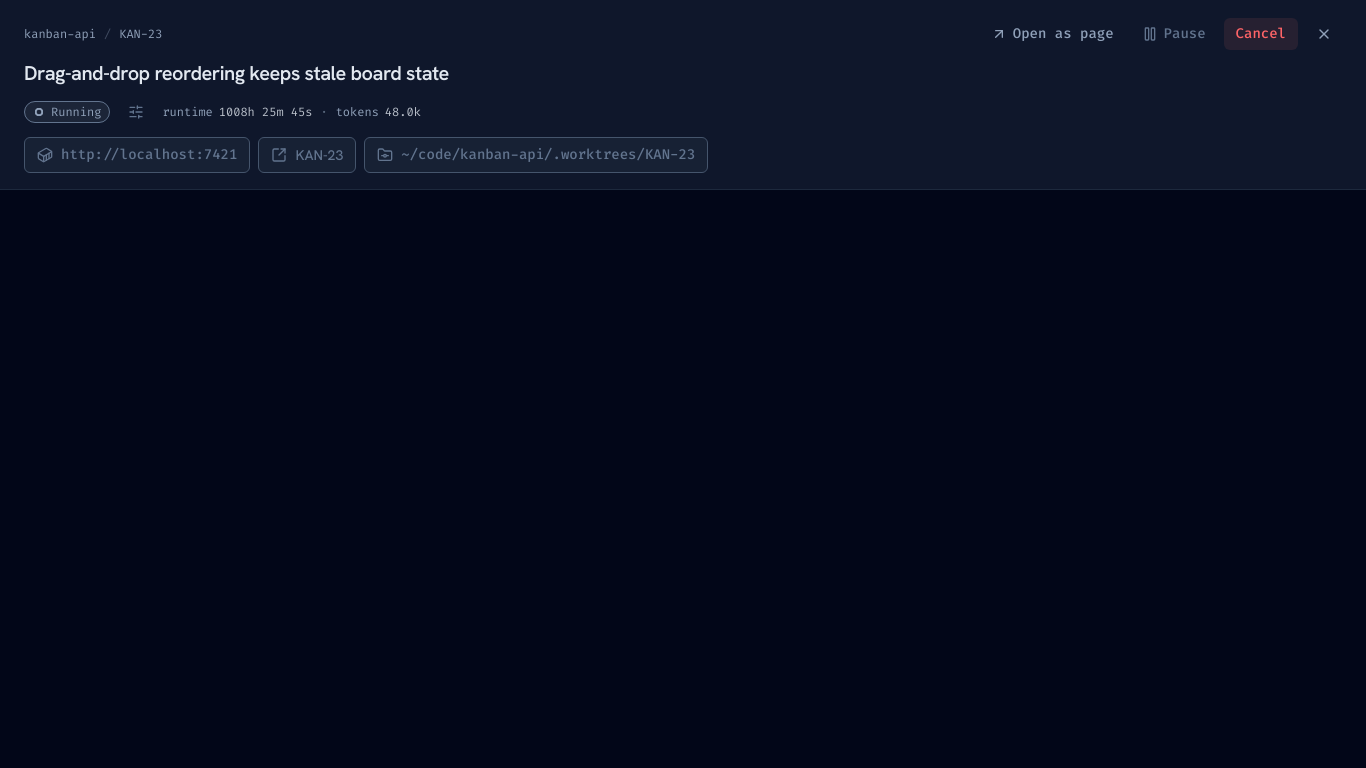
Test: DrawerHeader — Cancel control (CREW-246) › Cancel opens the confirm AlertModal without firing the soft cancel yet
Click the button "Cancel". click: (1261, 34)
box: x1=1224 y1=18 x2=1298 y2=50
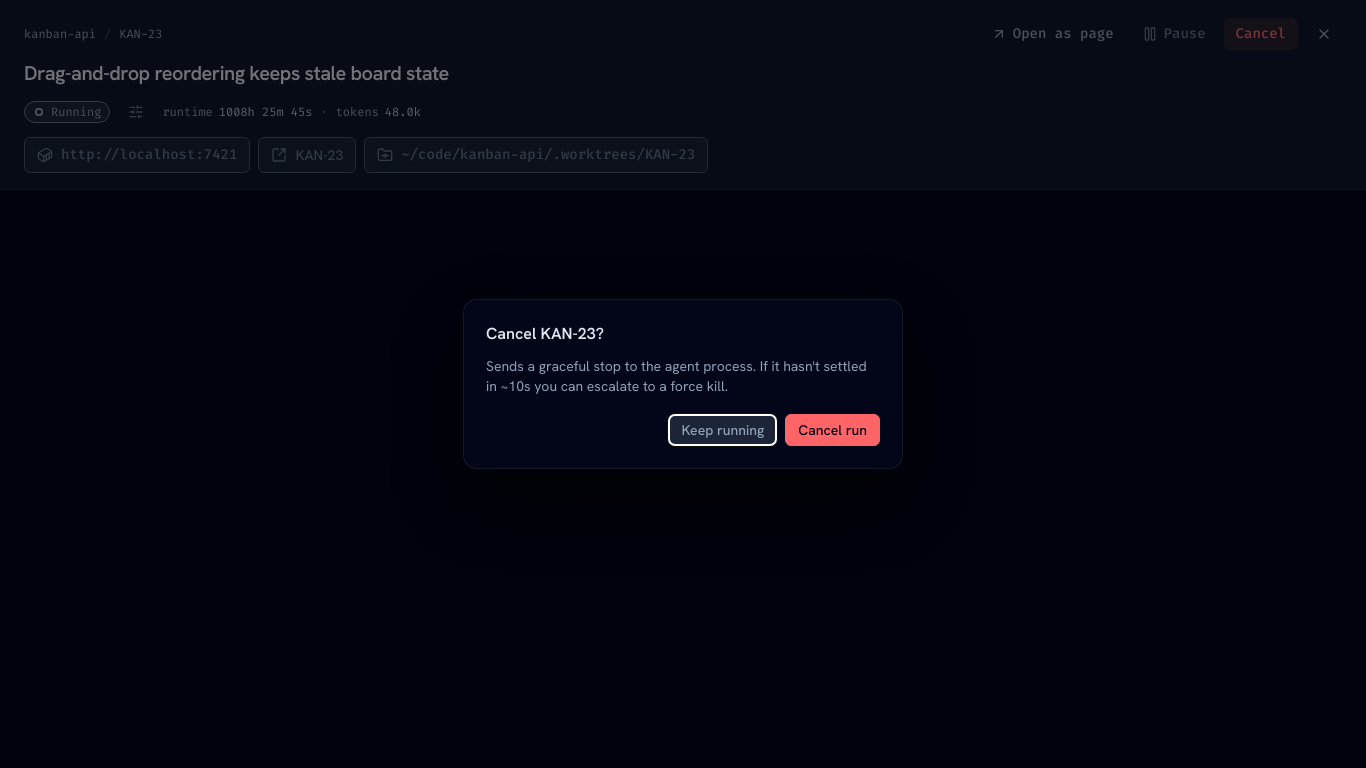
Expected: the dialog is shown, x1=463 y1=299 x2=903 y2=469
